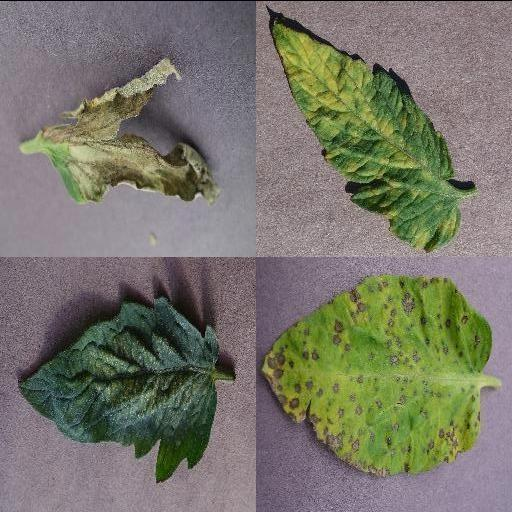Late Blight: (46, 56, 222, 204)
Leaf Mold: (272, 16, 464, 250)
Septoria: (260, 274, 492, 474)
Spider Mites: (16, 292, 220, 482)
